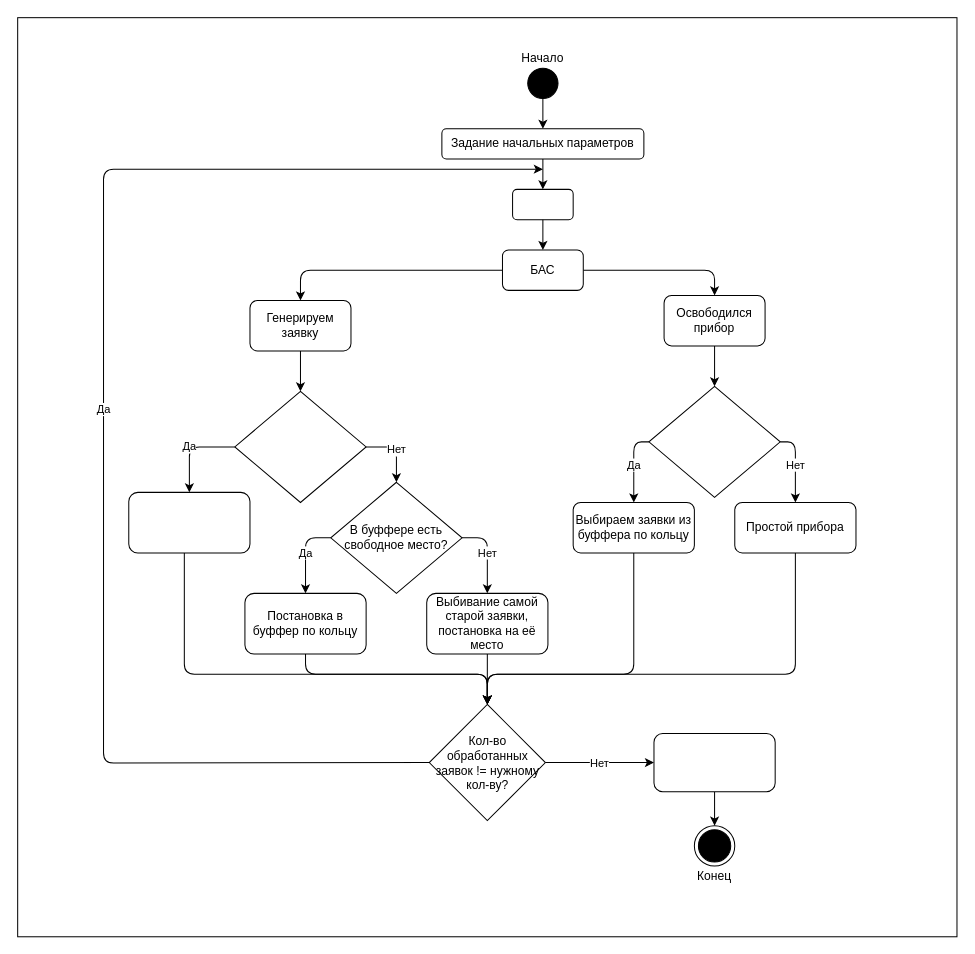
Some shapes in this 975 by 954 pixel diagram are drawn without their labels. The centre of each missing label's shape, as x and y in pixels:
БООС: the point at 542,204
В буффере есть необработанные заявки?: the point at 714,441
Есть свобоный прибор?: the point at 300,446
Отображаем результат: the point at 714,762
Постановка на прибор c приоритетом по номеру прибора: the point at 189,522
